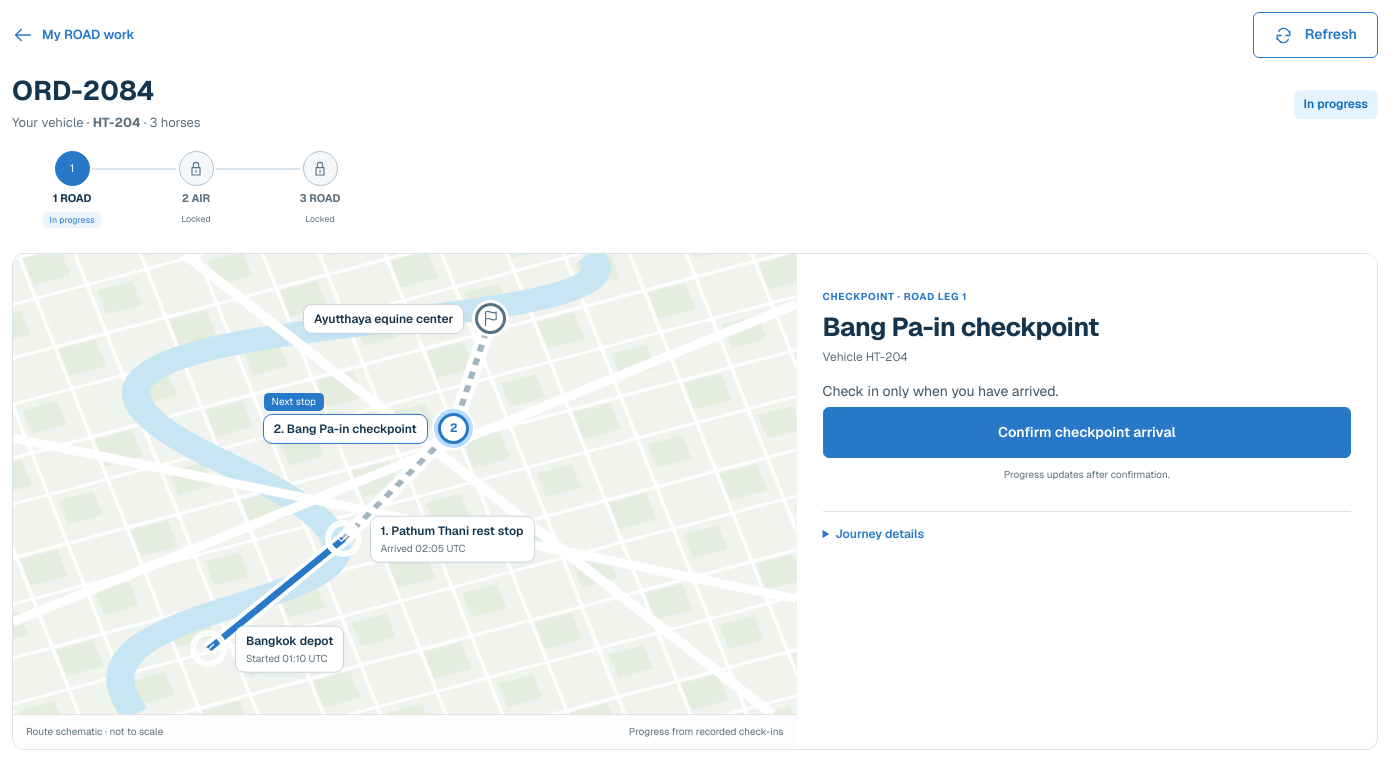
Driver execution components › the focused journey records only the selected eligible checkpoint for this vehicle
This screenshot has width=1390, height=780.
What coordinates should you click on to do the following:
click the button "Confirm checkpoint arrival"
I would click on:
 (1087, 432)
Its box is [823, 407, 1351, 458].
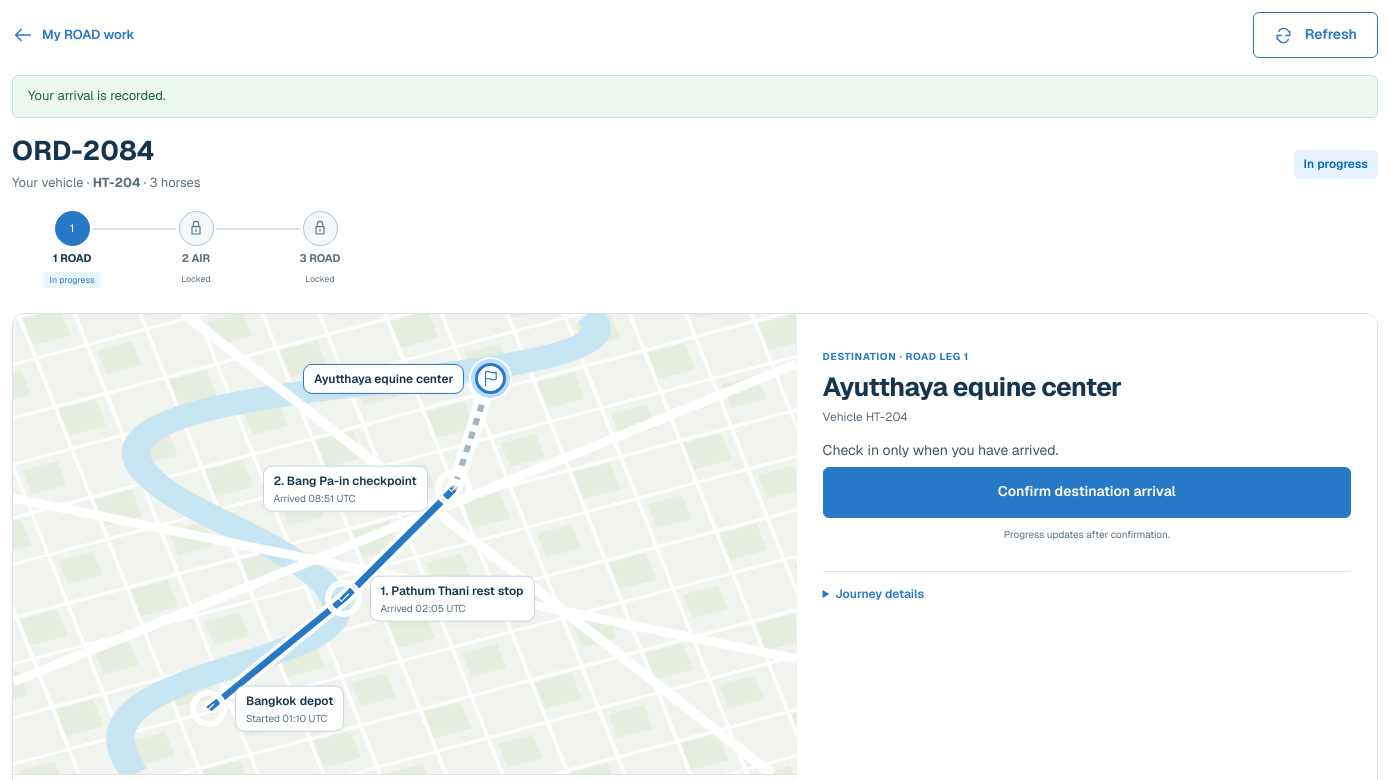
Expected: the button "Confirm destination arrival" is shown, [823, 467, 1351, 518]
